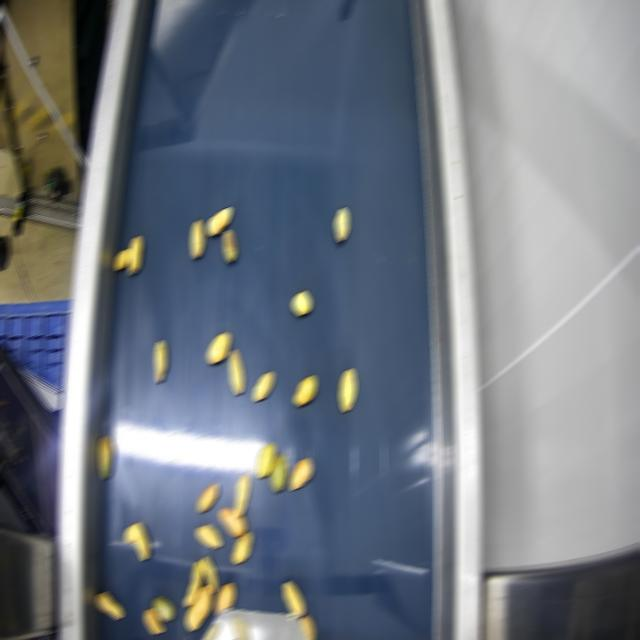Baby Potato: (185, 585, 212, 631), (183, 560, 202, 606), (125, 522, 148, 559), (218, 508, 245, 536), (95, 592, 122, 619), (289, 458, 312, 489), (206, 332, 229, 363), (206, 207, 231, 235), (293, 377, 316, 406), (284, 581, 303, 616), (256, 443, 275, 478), (339, 368, 354, 411), (234, 473, 249, 515), (270, 454, 287, 491), (196, 483, 217, 512), (195, 524, 220, 548), (232, 532, 251, 563), (229, 350, 242, 394), (215, 584, 234, 614), (99, 436, 112, 479), (201, 556, 216, 592), (254, 372, 273, 400), (152, 596, 173, 621), (143, 608, 162, 634), (128, 236, 141, 274), (190, 220, 203, 257), (154, 340, 165, 382), (291, 291, 310, 315), (223, 230, 236, 263), (334, 208, 347, 241), (114, 248, 129, 270), (300, 617, 313, 639)
